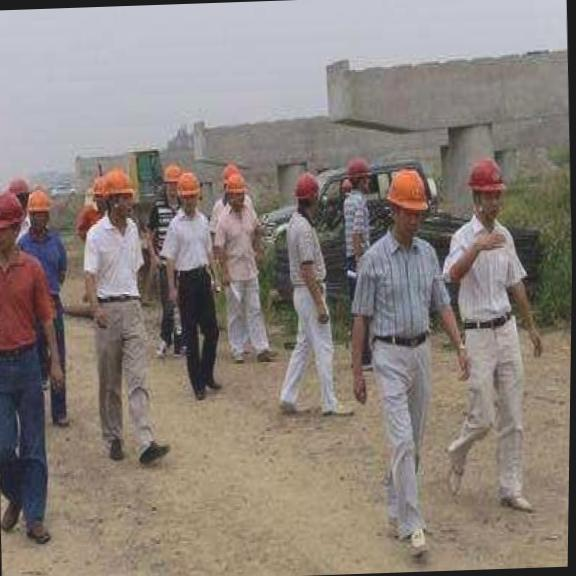no_safety_vest: (354, 232, 446, 340), (451, 220, 533, 326), (83, 219, 147, 310), (0, 247, 45, 354), (281, 206, 333, 288), (214, 203, 263, 285), (338, 190, 375, 276), (165, 216, 214, 278)
